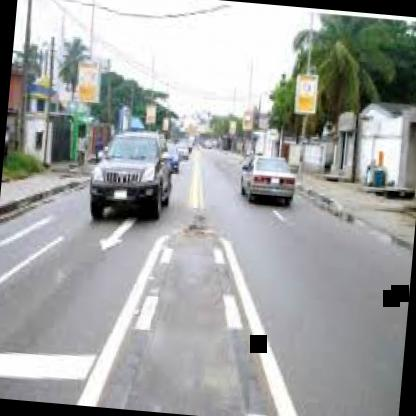car: (85, 112, 177, 230), (236, 144, 302, 212)
